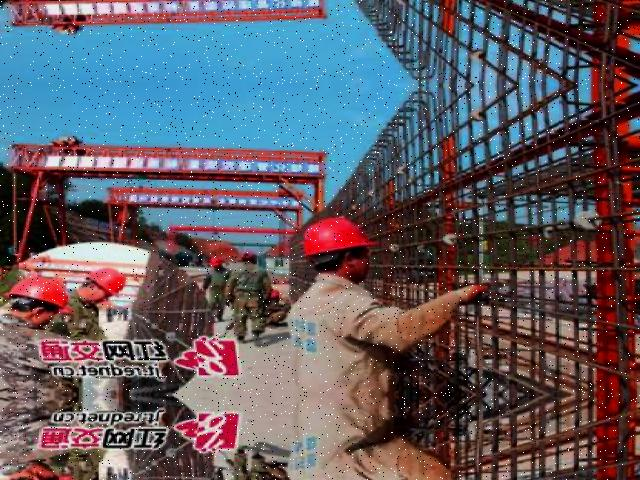Helmet: (301, 211, 384, 260), (4, 271, 76, 311), (83, 265, 131, 301)
